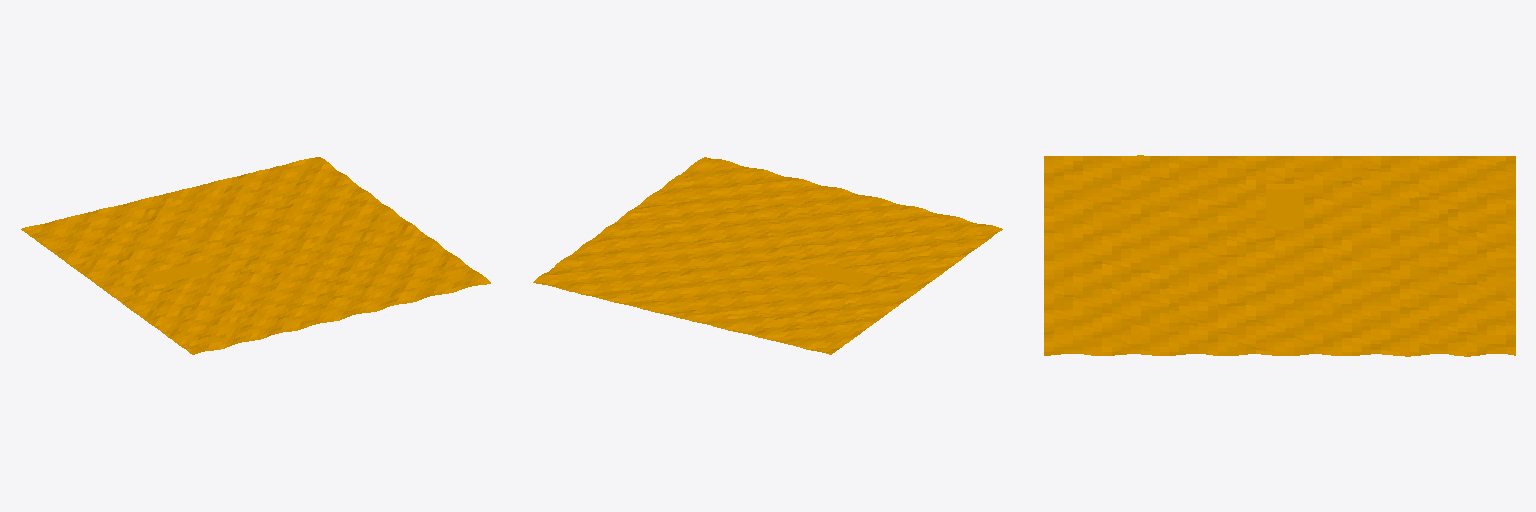
The robot description file, URDF, robot "floor":
<?xml version="1.0" ?>
<robot name="floor">
  <link name="floor">
  <contact>
      <lateral_friction value="1"/>
  </contact>
    <inertial>
      <origin rpy="0 0 0" xyz="0 0 0"/>
       <mass value=".0"/>
       <inertia ixx="0" ixy="0" ixz="0" iyy="0" iyz="0" izz="0"/>
    </inertial>
    <visual>
      <origin rpy="0 0 0" xyz="0 0 0"/>
      <geometry>
		    <mesh filename="terrain.obj" scale="1 1 1"/>
      </geometry>
    </visual>
		<collision concave="yes">
      <origin rpy="0 0 0" xyz="0 0 0"/>
      <geometry>
		<mesh filename="terrain.obj" scale="1 1 1"/>
      </geometry>
    </collision>
  </link>
</robot>

--- Facts derived from the render (not from the file) ---
3 views of the same robot in one strip: view 1: azimuth 30°, elevation 25°; view 2: azimuth 150°, elevation 25°; view 3: azimuth 270°, elevation 25° (orthographic).
Model floor with 1 links and 0 joints (none), rooted at floor, posed all joints at 0.
Visible links, largest first — view 1: floor; view 2: floor; view 3: floor.
Link boxes in pixels (bbox=[...]): floor: bbox=[21, 157, 490, 354]; floor: bbox=[533, 157, 1002, 354]; floor: bbox=[1044, 155, 1515, 356].
Bounding box of the posed robot: 9.8 × 9.8 × 0.0845 m (x, y, z).
1 mesh visuals loaded from 1 distinct referenced files (1 OBJ).